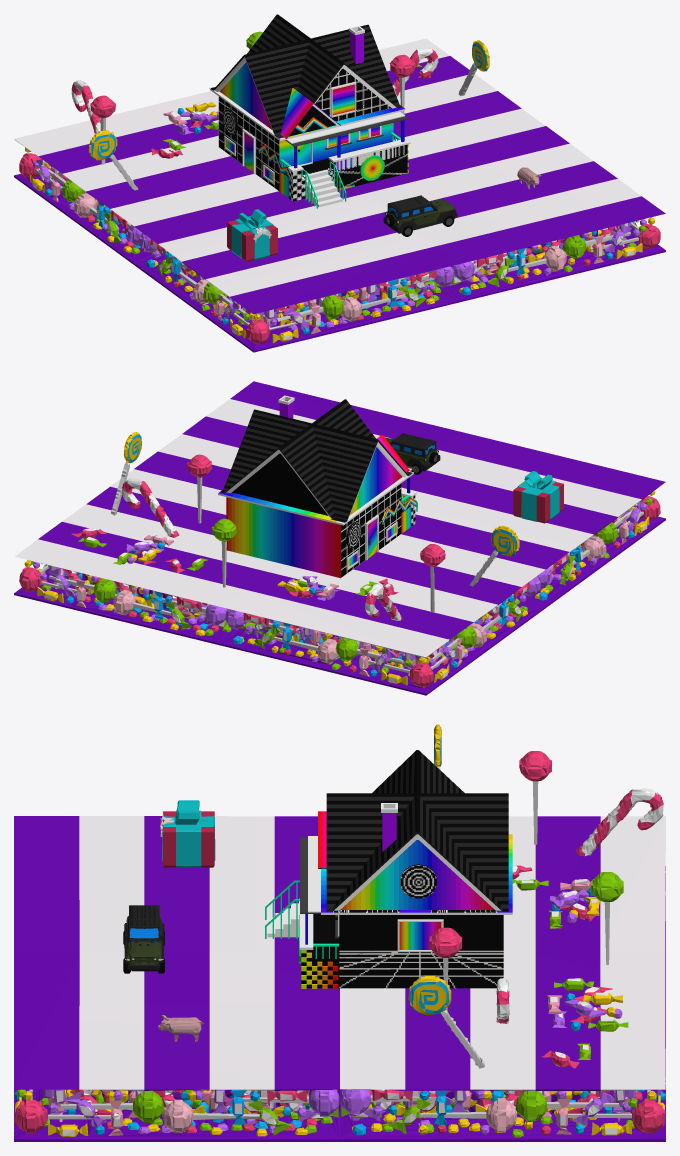
3 renders of one model, top to bottom at view 1: azimuth 30°, elevation 25°; view 2: azimuth 150°, elevation 25°; view 3: azimuth 270°, elevation 25°, orthographic. The views are drawn at different scales.
Visible parts, largest first — view 1: TERRAIN_CANDY, Cube.1320, OBJRANDOM_GIANT_PRESENT, VEHICLES_JEEP; view 2: TERRAIN_CANDY, Cube.1320, OBJRANDOM_GIANT_PRESENT, VEHICLES_JEEP; view 3: TERRAIN_CANDY, Cube.1320, OBJRANDOM_GIANT_PRESENT, VEHICLES_JEEP, ANIMAL_CERDO.
Boxes of the visible parts, x1,y1,x2,y2 form: TERRAIN_CANDY: (14, 31, 665, 352); Cube.1320: (209, 14, 410, 208); OBJRANDOM_GIANT_PRESENT: (227, 209, 277, 261); VEHICLES_JEEP: (383, 195, 457, 236); TERRAIN_CANDY: (14, 381, 665, 695); Cube.1320: (218, 395, 417, 578); OBJRANDOM_GIANT_PRESENT: (513, 471, 563, 523); VEHICLES_JEEP: (385, 433, 440, 474); TERRAIN_CANDY: (14, 724, 665, 1141); Cube.1320: (265, 750, 512, 988); OBJRANDOM_GIANT_PRESENT: (160, 800, 215, 867); VEHICLES_JEEP: (123, 905, 164, 973); ANIMAL_CERDO: (158, 1015, 203, 1041).
Size of the model in its own units: 4059 by 1607 by 4000.
25 materials, 5 textured.
